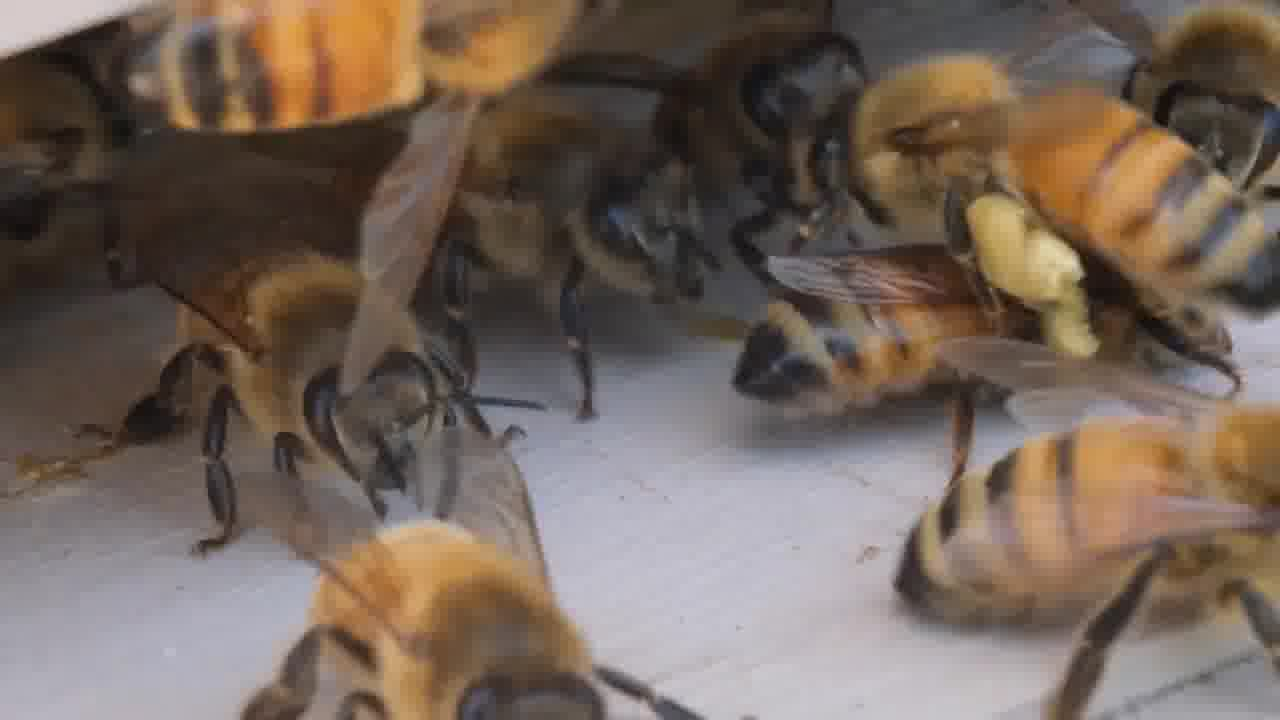pollen: (828, 66, 1277, 362)
